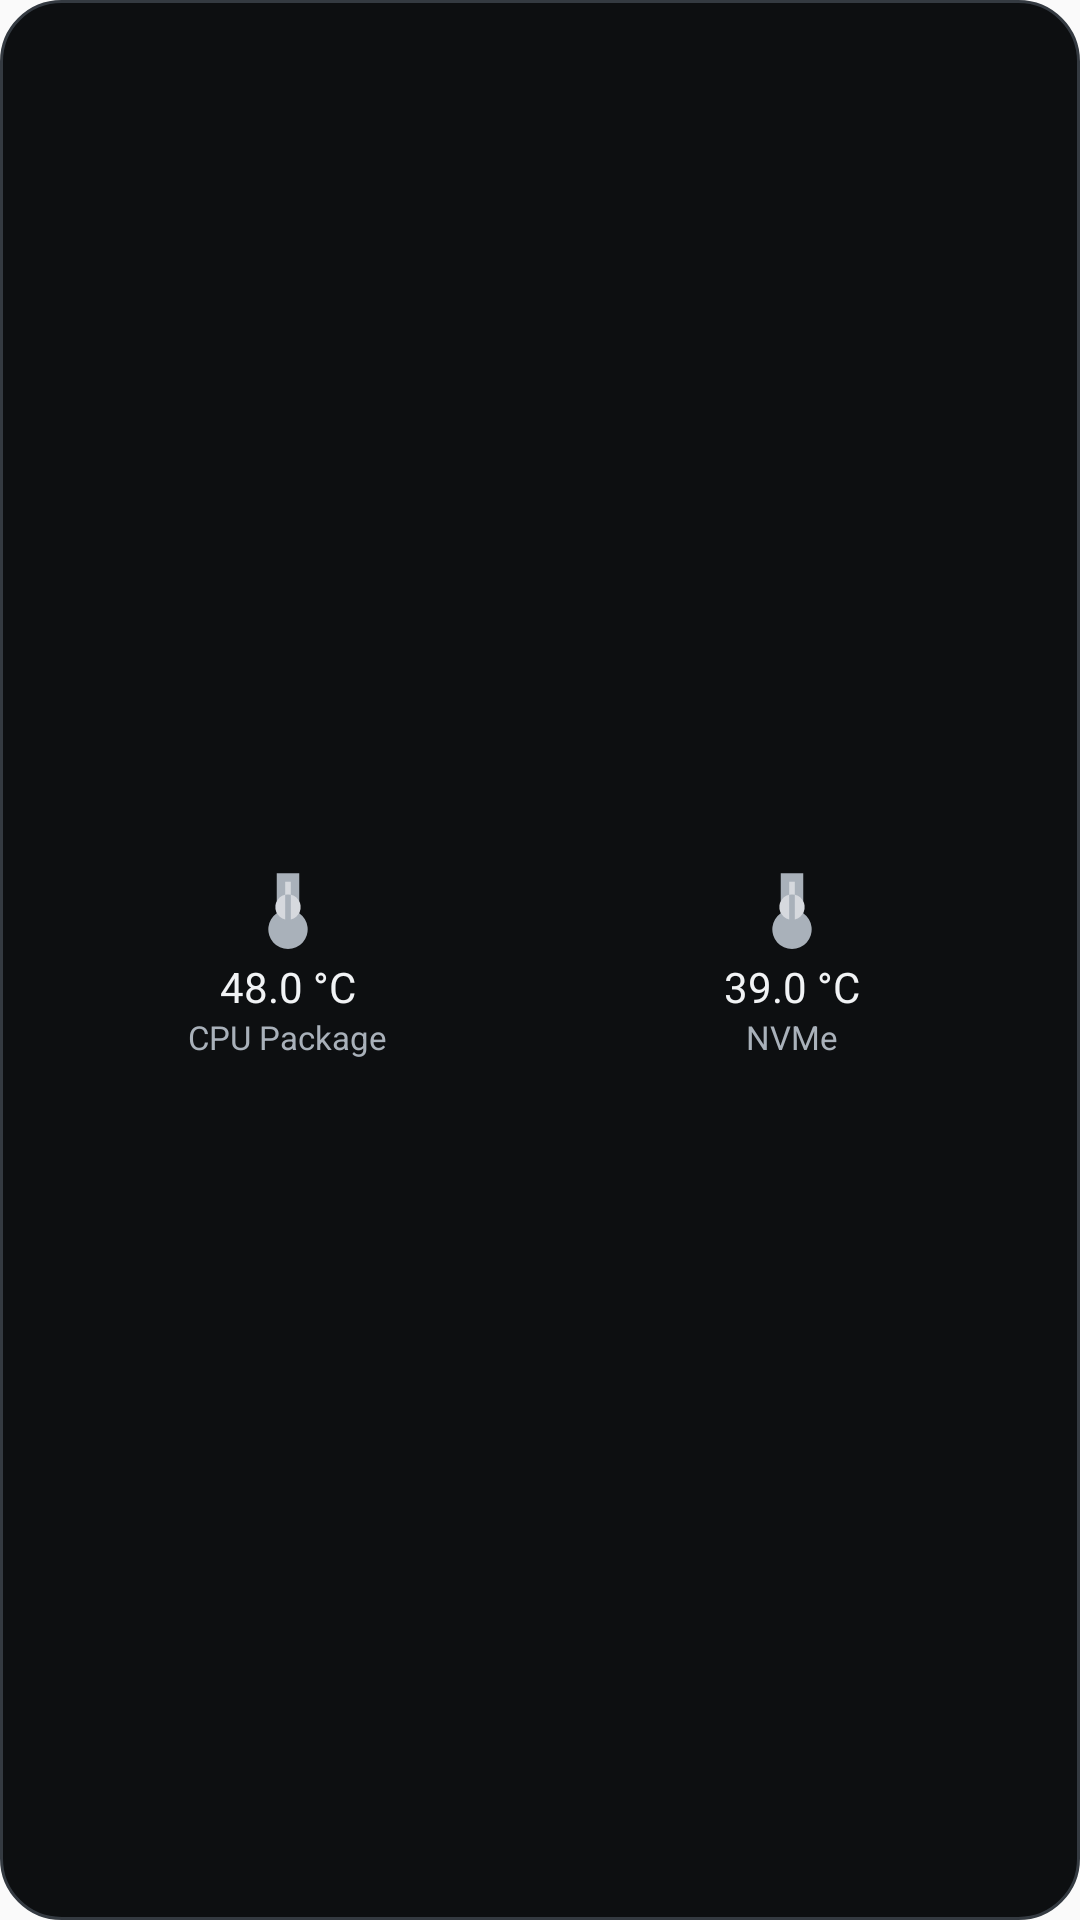

Where to tap for icons on this 1080px x 1920px app screen, as (x=x, y=y):
Temperatura do CPU: (x=288, y=911)
